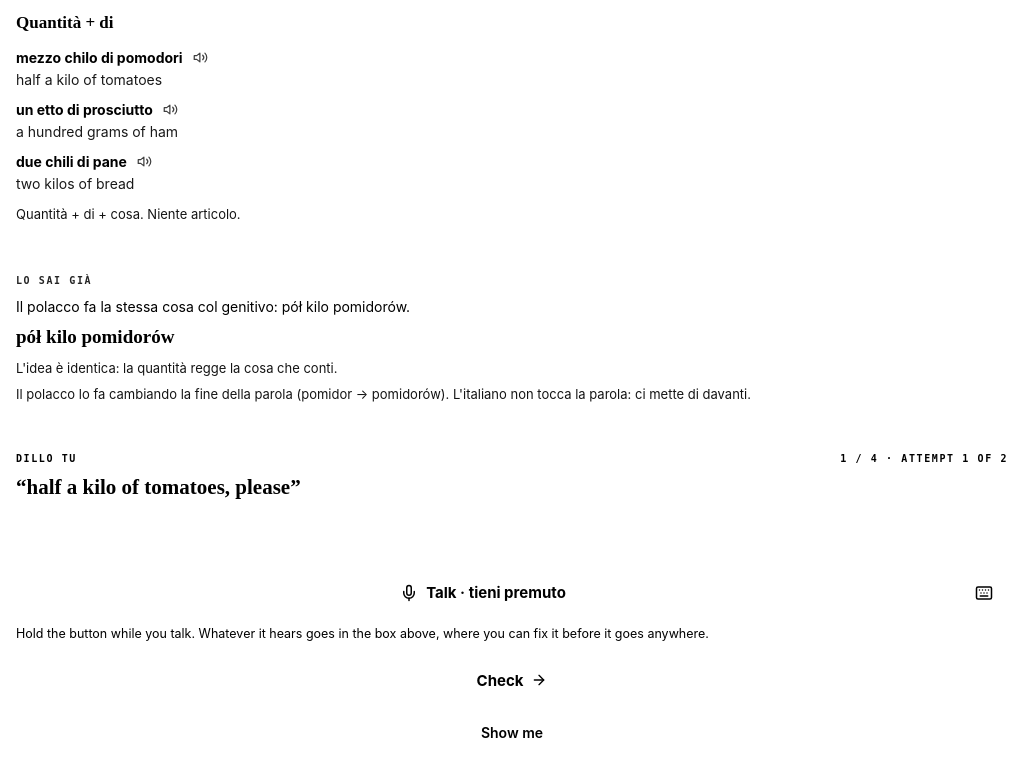
Test: Dillo tu › shows the canonical answer on Show me
The width and height of the screenshot is (1024, 768).
(page scrolled)
Click the button "Show me": (512, 732) [16, 712, 1008, 752]
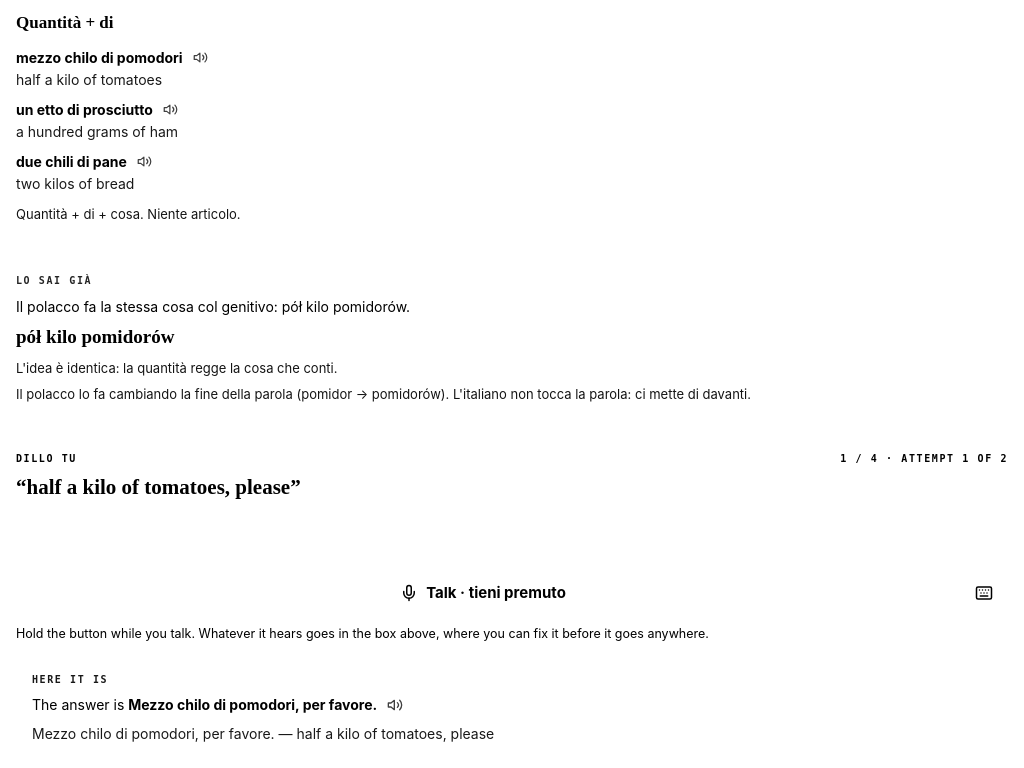
Now the text "Mezzo chilo di pomodori, per favore." next to "The answer is" is shown, box [128, 696, 377, 713]
